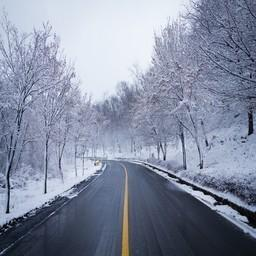Snow: (126, 160, 255, 238), (0, 157, 102, 227), (127, 160, 255, 211), (182, 124, 255, 190), (85, 140, 184, 171)
